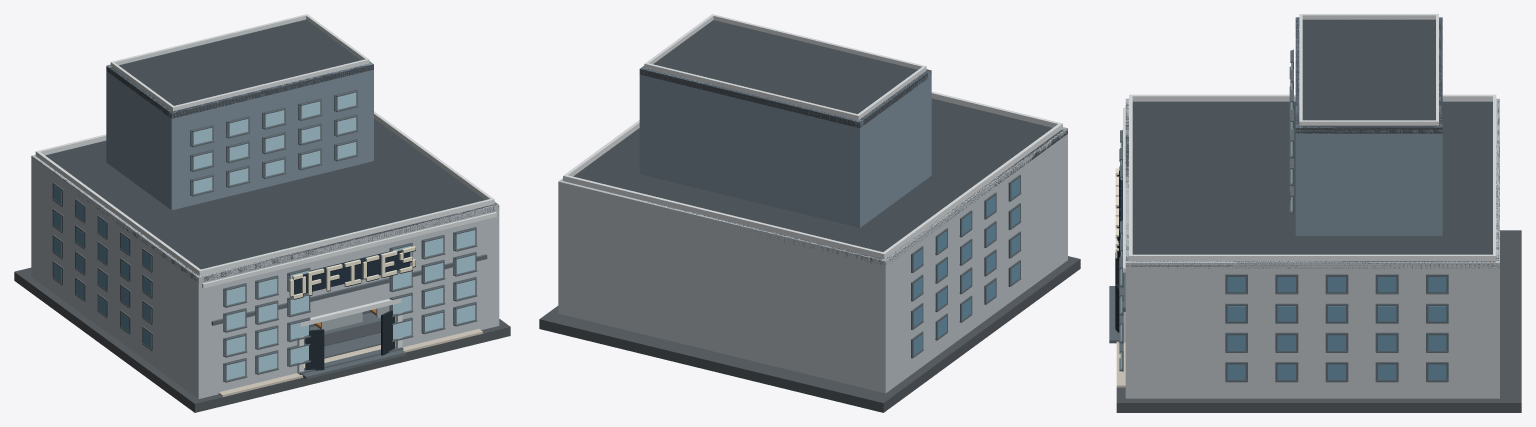
File: offices-building.glb
3 views of the same model, side by side, from view 1: azimuth 30°, elevation 25°; view 2: azimuth 150°, elevation 25°; view 3: azimuth 270°, elevation 25° (orthographic). The views are drawn at different scales.
Parts seen in each view (by area): view 1: offices_cutaway_roof, offices_hull_wall, offices_cutaway_upper, offices_exterior_detail, offices_foundation, offices_interior; view 2: offices_hull_wall, offices_cutaway_roof, offices_cutaway_upper, offices_foundation, offices_exterior_detail; view 3: offices_cutaway_roof, offices_hull_wall, offices_cutaway_upper, offices_exterior_detail, offices_foundation.
Boxes of the visible parts, x1,y1,x2,y2 form: offices_cutaway_roof: [32, 14, 498, 282]; offices_hull_wall: [31, 154, 499, 398]; offices_cutaway_upper: [106, 21, 373, 210]; offices_exterior_detail: [52, 182, 496, 382]; offices_foundation: [14, 267, 510, 412]; offices_interior: [304, 305, 389, 358]; offices_hull_wall: [558, 127, 1067, 393]; offices_cutaway_roof: [563, 14, 1067, 265]; offices_cutaway_upper: [639, 20, 931, 227]; offices_foundation: [539, 256, 1080, 412]; offices_exterior_detail: [911, 174, 1021, 358]; offices_cutaway_roof: [1125, 14, 1499, 268]; offices_hull_wall: [1125, 98, 1499, 398]; offices_cutaway_upper: [1289, 17, 1442, 235]; offices_exterior_detail: [1115, 107, 1448, 382]; offices_foundation: [1109, 230, 1521, 412].
Size of the model in its own units: 22.8 by 15.94 by 23.
